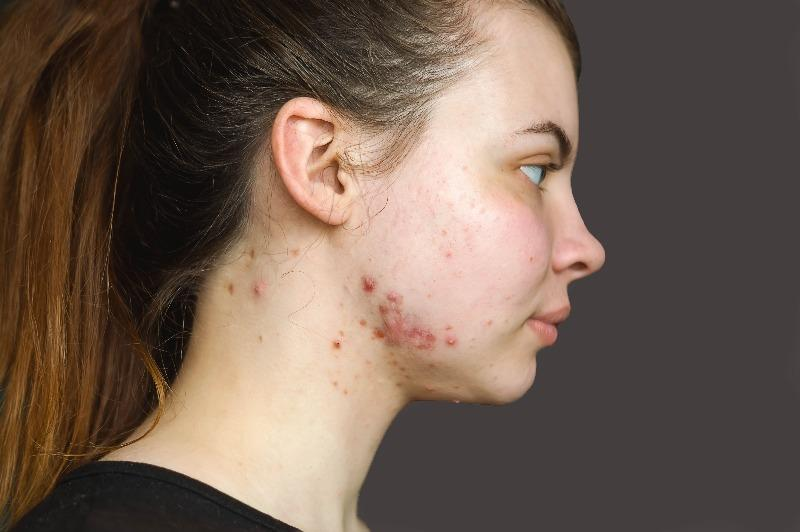acne marks: (344, 251, 465, 368)
